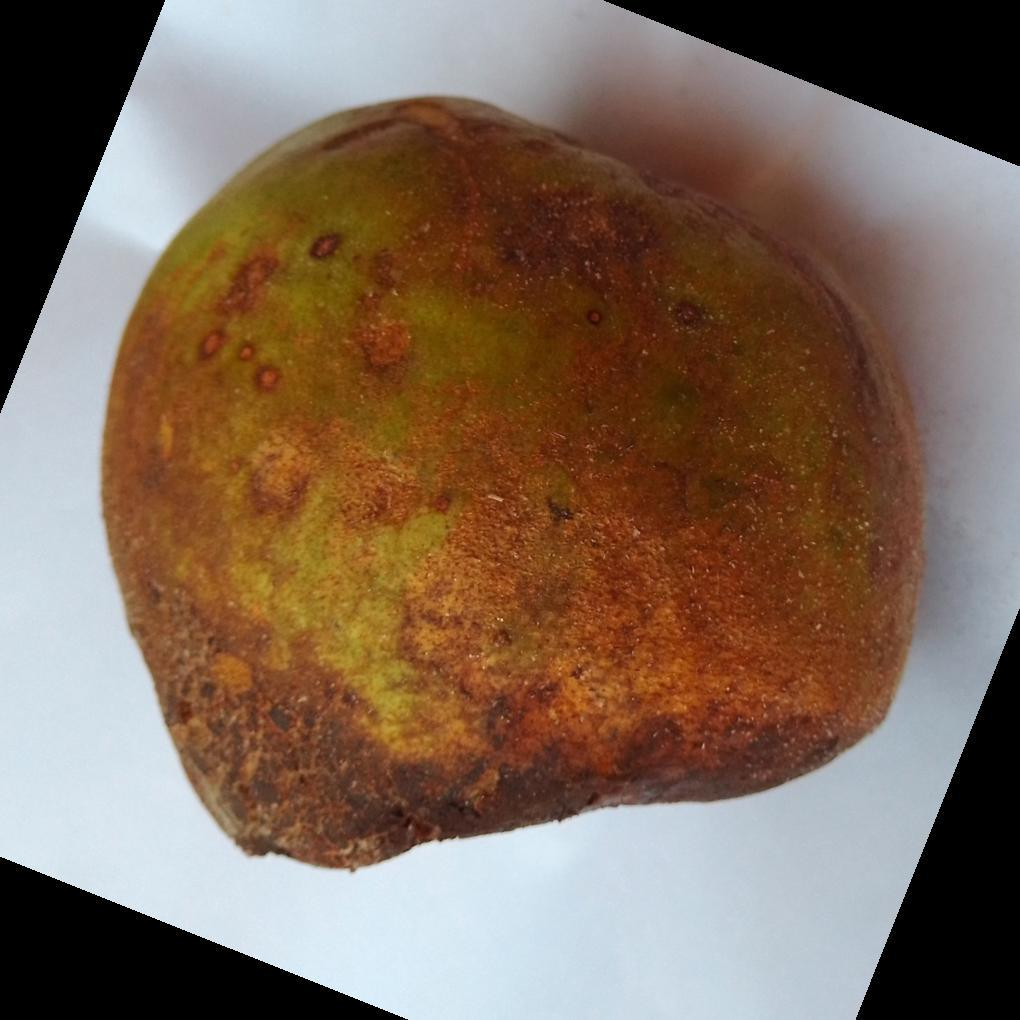FreshOrange: (97, 96, 927, 876)
